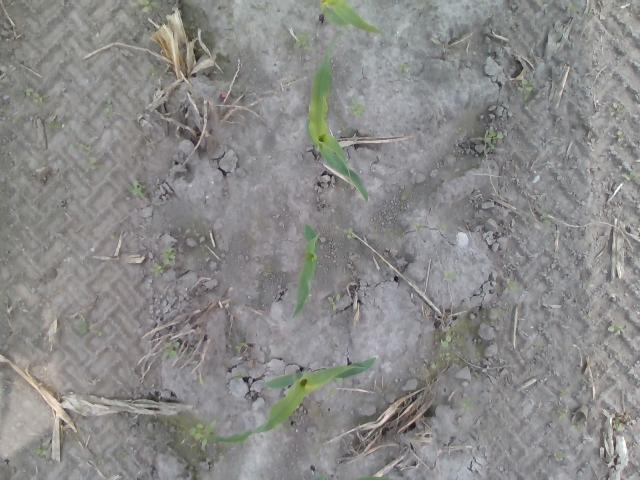Maize: (207, 358, 377, 445), (310, 41, 370, 204), (292, 222, 318, 324), (317, 0, 383, 35), (309, 467, 393, 480)
Weeds: (66, 142, 104, 172), (148, 245, 178, 276), (479, 127, 505, 160), (190, 420, 215, 448), (293, 29, 315, 52), (433, 336, 451, 362), (558, 384, 570, 422), (349, 95, 368, 118), (22, 85, 44, 104), (160, 342, 180, 362), (183, 225, 205, 242), (517, 78, 535, 96), (76, 316, 90, 338), (129, 182, 148, 198), (610, 100, 631, 114), (606, 324, 628, 336), (138, 0, 160, 12), (31, 446, 51, 459), (622, 169, 640, 183), (328, 292, 340, 313), (565, 0, 581, 15), (506, 277, 520, 292), (232, 340, 246, 354), (104, 98, 114, 115), (462, 398, 475, 410), (343, 227, 354, 240), (46, 121, 66, 128), (554, 450, 564, 464), (444, 270, 456, 280), (615, 130, 624, 142), (400, 62, 410, 72), (416, 222, 424, 233)
